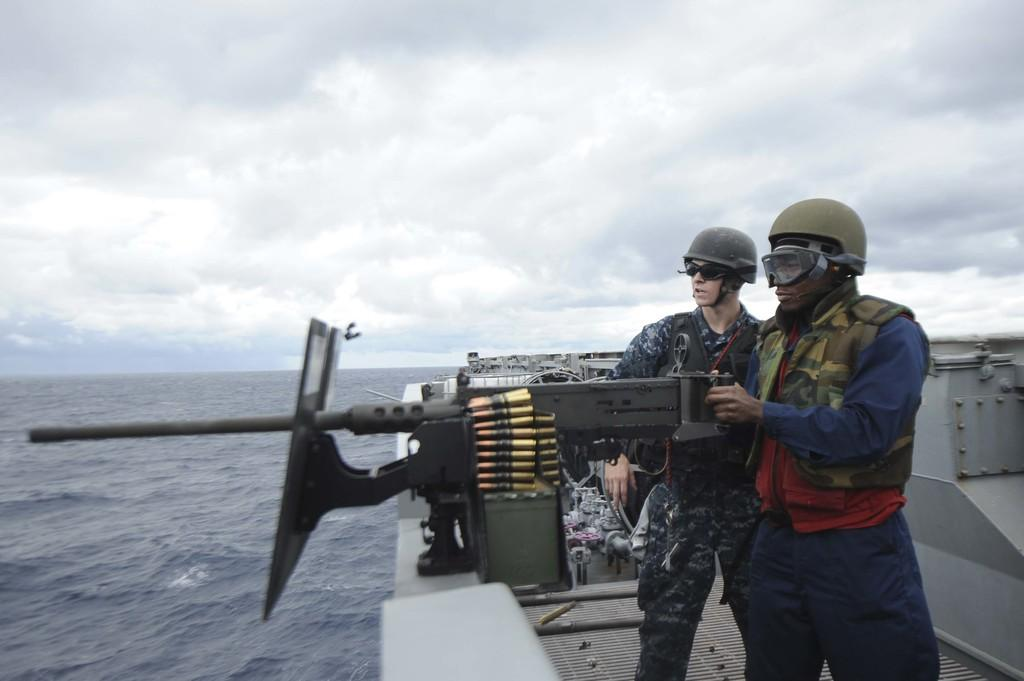non-violence: (712, 199, 941, 681), (605, 233, 761, 681)
weapon: (28, 376, 732, 486)
